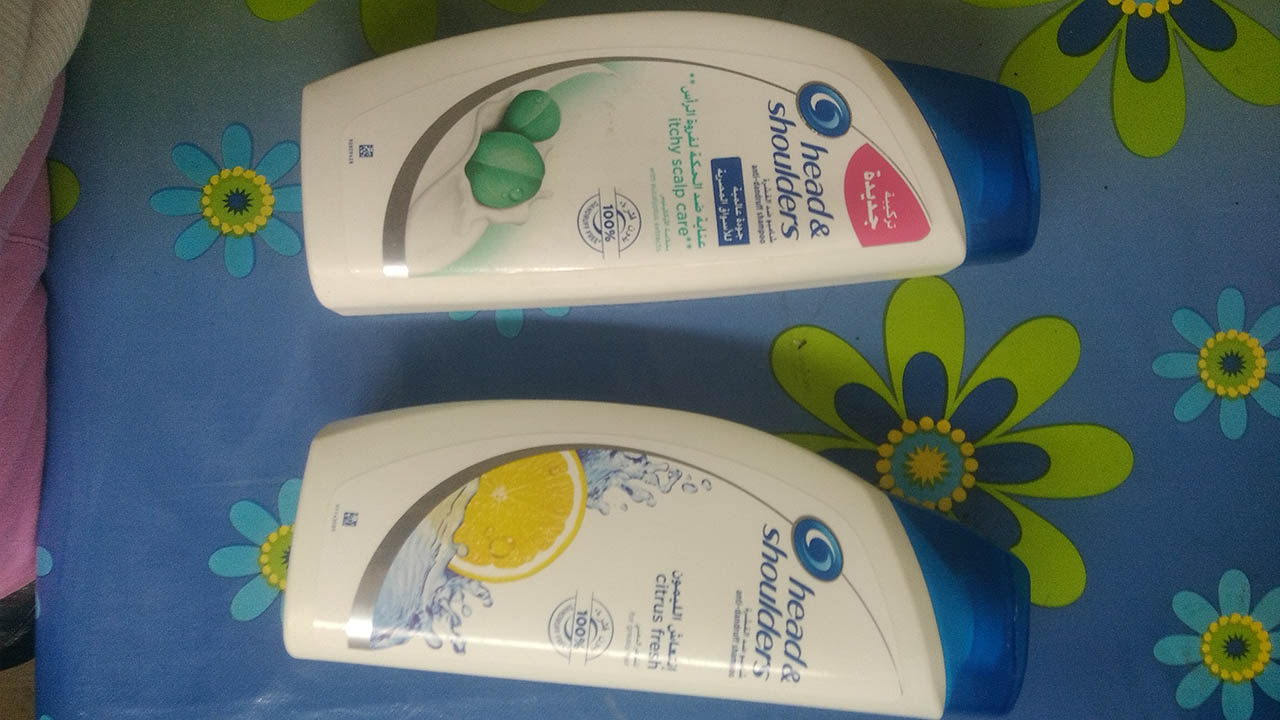shampoo-Lemon 3.5$: (291, 401, 1021, 717)
shampoo-green 4.5$: (284, 12, 1055, 300)
